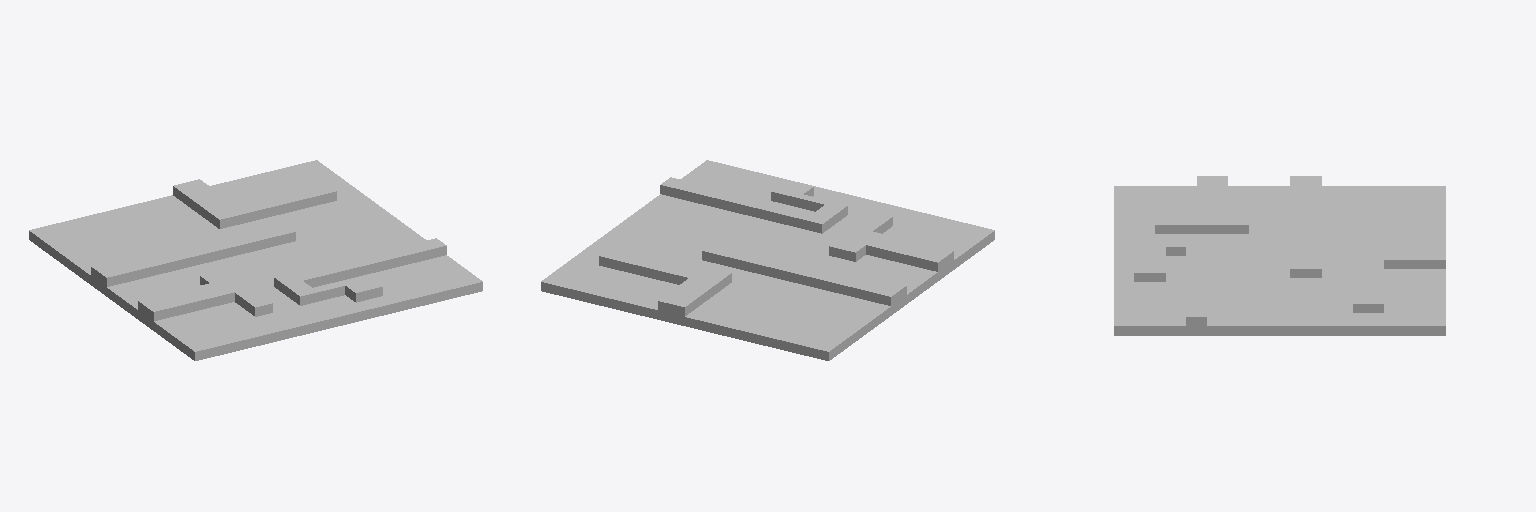
Rendered from niveau 4.obj.
3 renders of one model, left to right at view 1: azimuth 30°, elevation 25°; view 2: azimuth 150°, elevation 25°; view 3: azimuth 270°, elevation 25°, orthographic.
Visible parts, largest first — view 1: Niveau 4; view 2: Niveau 4; view 3: Niveau 4.
Boxes of the visible parts, box(x1,y1,x2,y2) form: Niveau 4: box(29, 160, 482, 360); Niveau 4: box(541, 160, 994, 360); Niveau 4: box(1114, 176, 1445, 335).
Bounding box in the file's own units: 3.2 × 0.2 × 3.2.